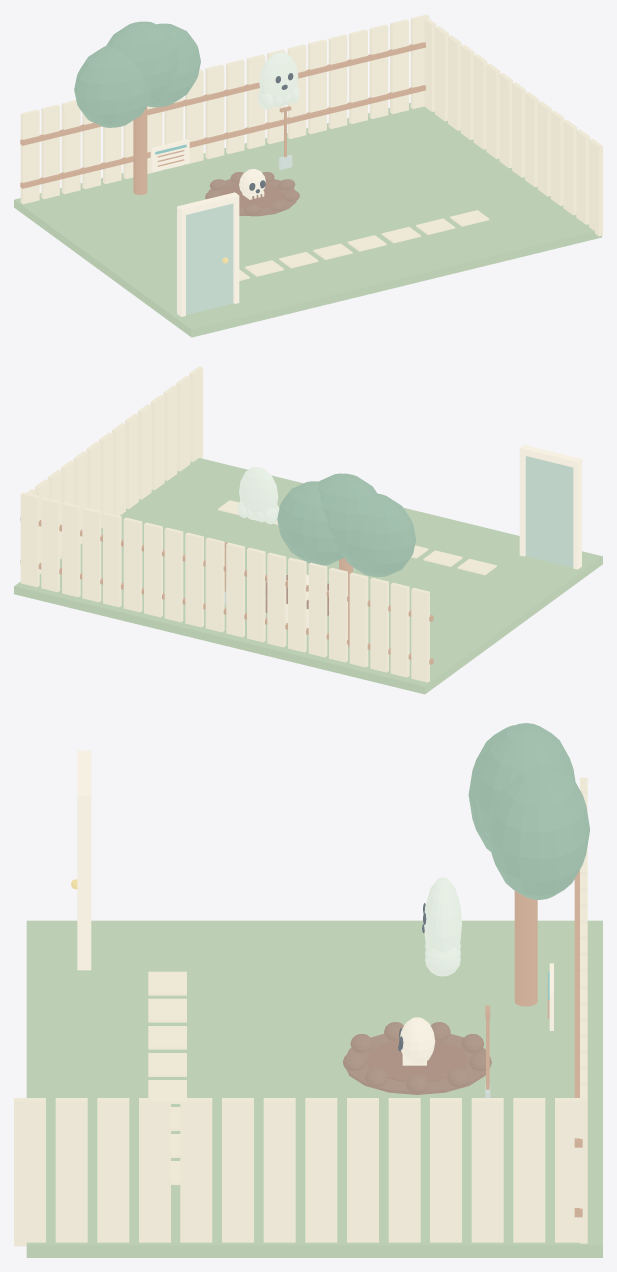
File: house-yard.glb
The picture shows the model from 3 angles, top to bottom: view 1: azimuth 30°, elevation 25°; view 2: azimuth 150°, elevation 25°; view 3: azimuth 270°, elevation 25°; orthographic projection. The views are drawn at different scales.
Visible parts, largest first — view 1: Yard_base, Door_Kitchen_panel.001, Apple_tree_crown.001, Apple_tree_crown, Fence_rail, Fence_rail.001, Apple_tree_crown.002, Fence_board, Fence_board.009, Fence_board.015, Fence_board.017, Fence_board.002 (+38 smaller); view 2: Yard_base, Door_Kitchen_panel.001, Apple_tree_crown.001, Apple_tree_crown.002, Apple_tree_crown, Fence_board.001, Fence_board.010, Fence_board.003, Fence_board.019, Fence_board.012, Fence_board.014, Fence_board.016 (+31 smaller); view 3: Yard_base, Apple_tree_crown.002, Fence_side.001, Fence_side.002, Fence_side.004, Fence_side.006, Fence_side.007, Fence_side.009, Fence_side.011, Fence_side.012, Fence_side.013, Apple_tree_crown (+21 smaller).
Part boxes in pixels (<box>): Yard_base: <box>14,103,601,337</box>; Door_Kitchen_panel.001: <box>186,203,233,314</box>; Apple_tree_crown.001: <box>74,45,151,127</box>; Apple_tree_crown: <box>106,21,178,102</box>; Fence_rail: <box>20,85,425,188</box>; Fence_rail.001: <box>20,42,425,145</box>; Apple_tree_crown.002: <box>148,23,200,107</box>; Fence_board: <box>20,109,39,204</box>; Fence_board.009: <box>205,64,224,158</box>; Fence_board.015: <box>328,34,347,128</box>; Fence_board.017: <box>369,24,388,118</box>; Fence_board.002: <box>61,100,80,194</box>; Yard_base: <box>14,458,602,694</box>; Door_Kitchen_panel.001: <box>525,456,573,567</box>; Apple_tree_crown.001: <box>343,493,415,576</box>; Apple_tree_crown.002: <box>277,481,344,565</box>; Apple_tree_crown: <box>318,473,377,556</box>; Fence_board.001: <box>390,582,409,677</box>; Fence_board.010: <box>205,537,224,632</box>; Fence_board.003: <box>349,572,368,667</box>; Fence_board.019: <box>20,492,39,587</box>; Fence_board.012: <box>164,527,183,622</box>; Fence_board.014: <box>123,517,142,612</box>; Fence_board.016: <box>82,507,101,602</box>; Yard_base: <box>26,920,602,1257</box>; Apple_tree_crown.002: <box>487,765,589,899</box>; Fence_side.001: <box>513,1098,545,1242</box>; Fence_side.002: <box>471,1098,503,1242</box>; Fence_side.004: <box>388,1098,420,1242</box>; Fence_side.006: <box>305,1098,337,1242</box>; Fence_side.007: <box>263,1098,295,1242</box>; Fence_side.009: <box>180,1098,212,1242</box>; Fence_side.011: <box>97,1098,129,1242</box>; Fence_side.012: <box>55,1098,87,1242</box>; Fence_side.013: <box>14,1098,45,1246</box>; Apple_tree_crown: <box>475,723,575,840</box>.
Size of the model in its own units: 12 by 4.91 by 9.2.
